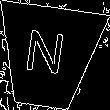N_S: (25, 29, 71, 85)
